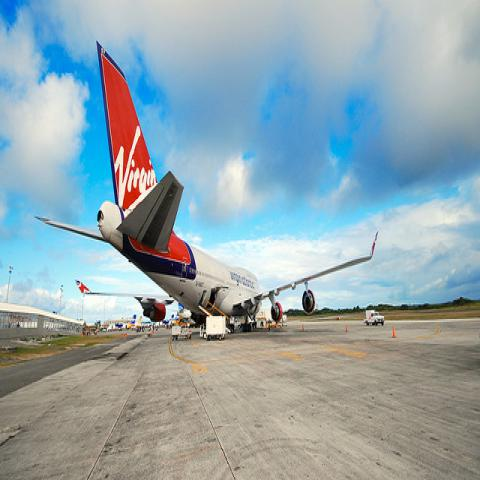truck: (199, 317, 227, 341), (171, 323, 192, 342), (363, 310, 385, 328), (227, 316, 241, 330)
